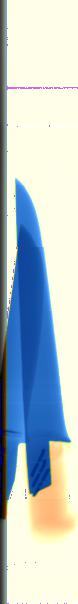Knife: (12, 179, 76, 540), (1, 229, 45, 534)
